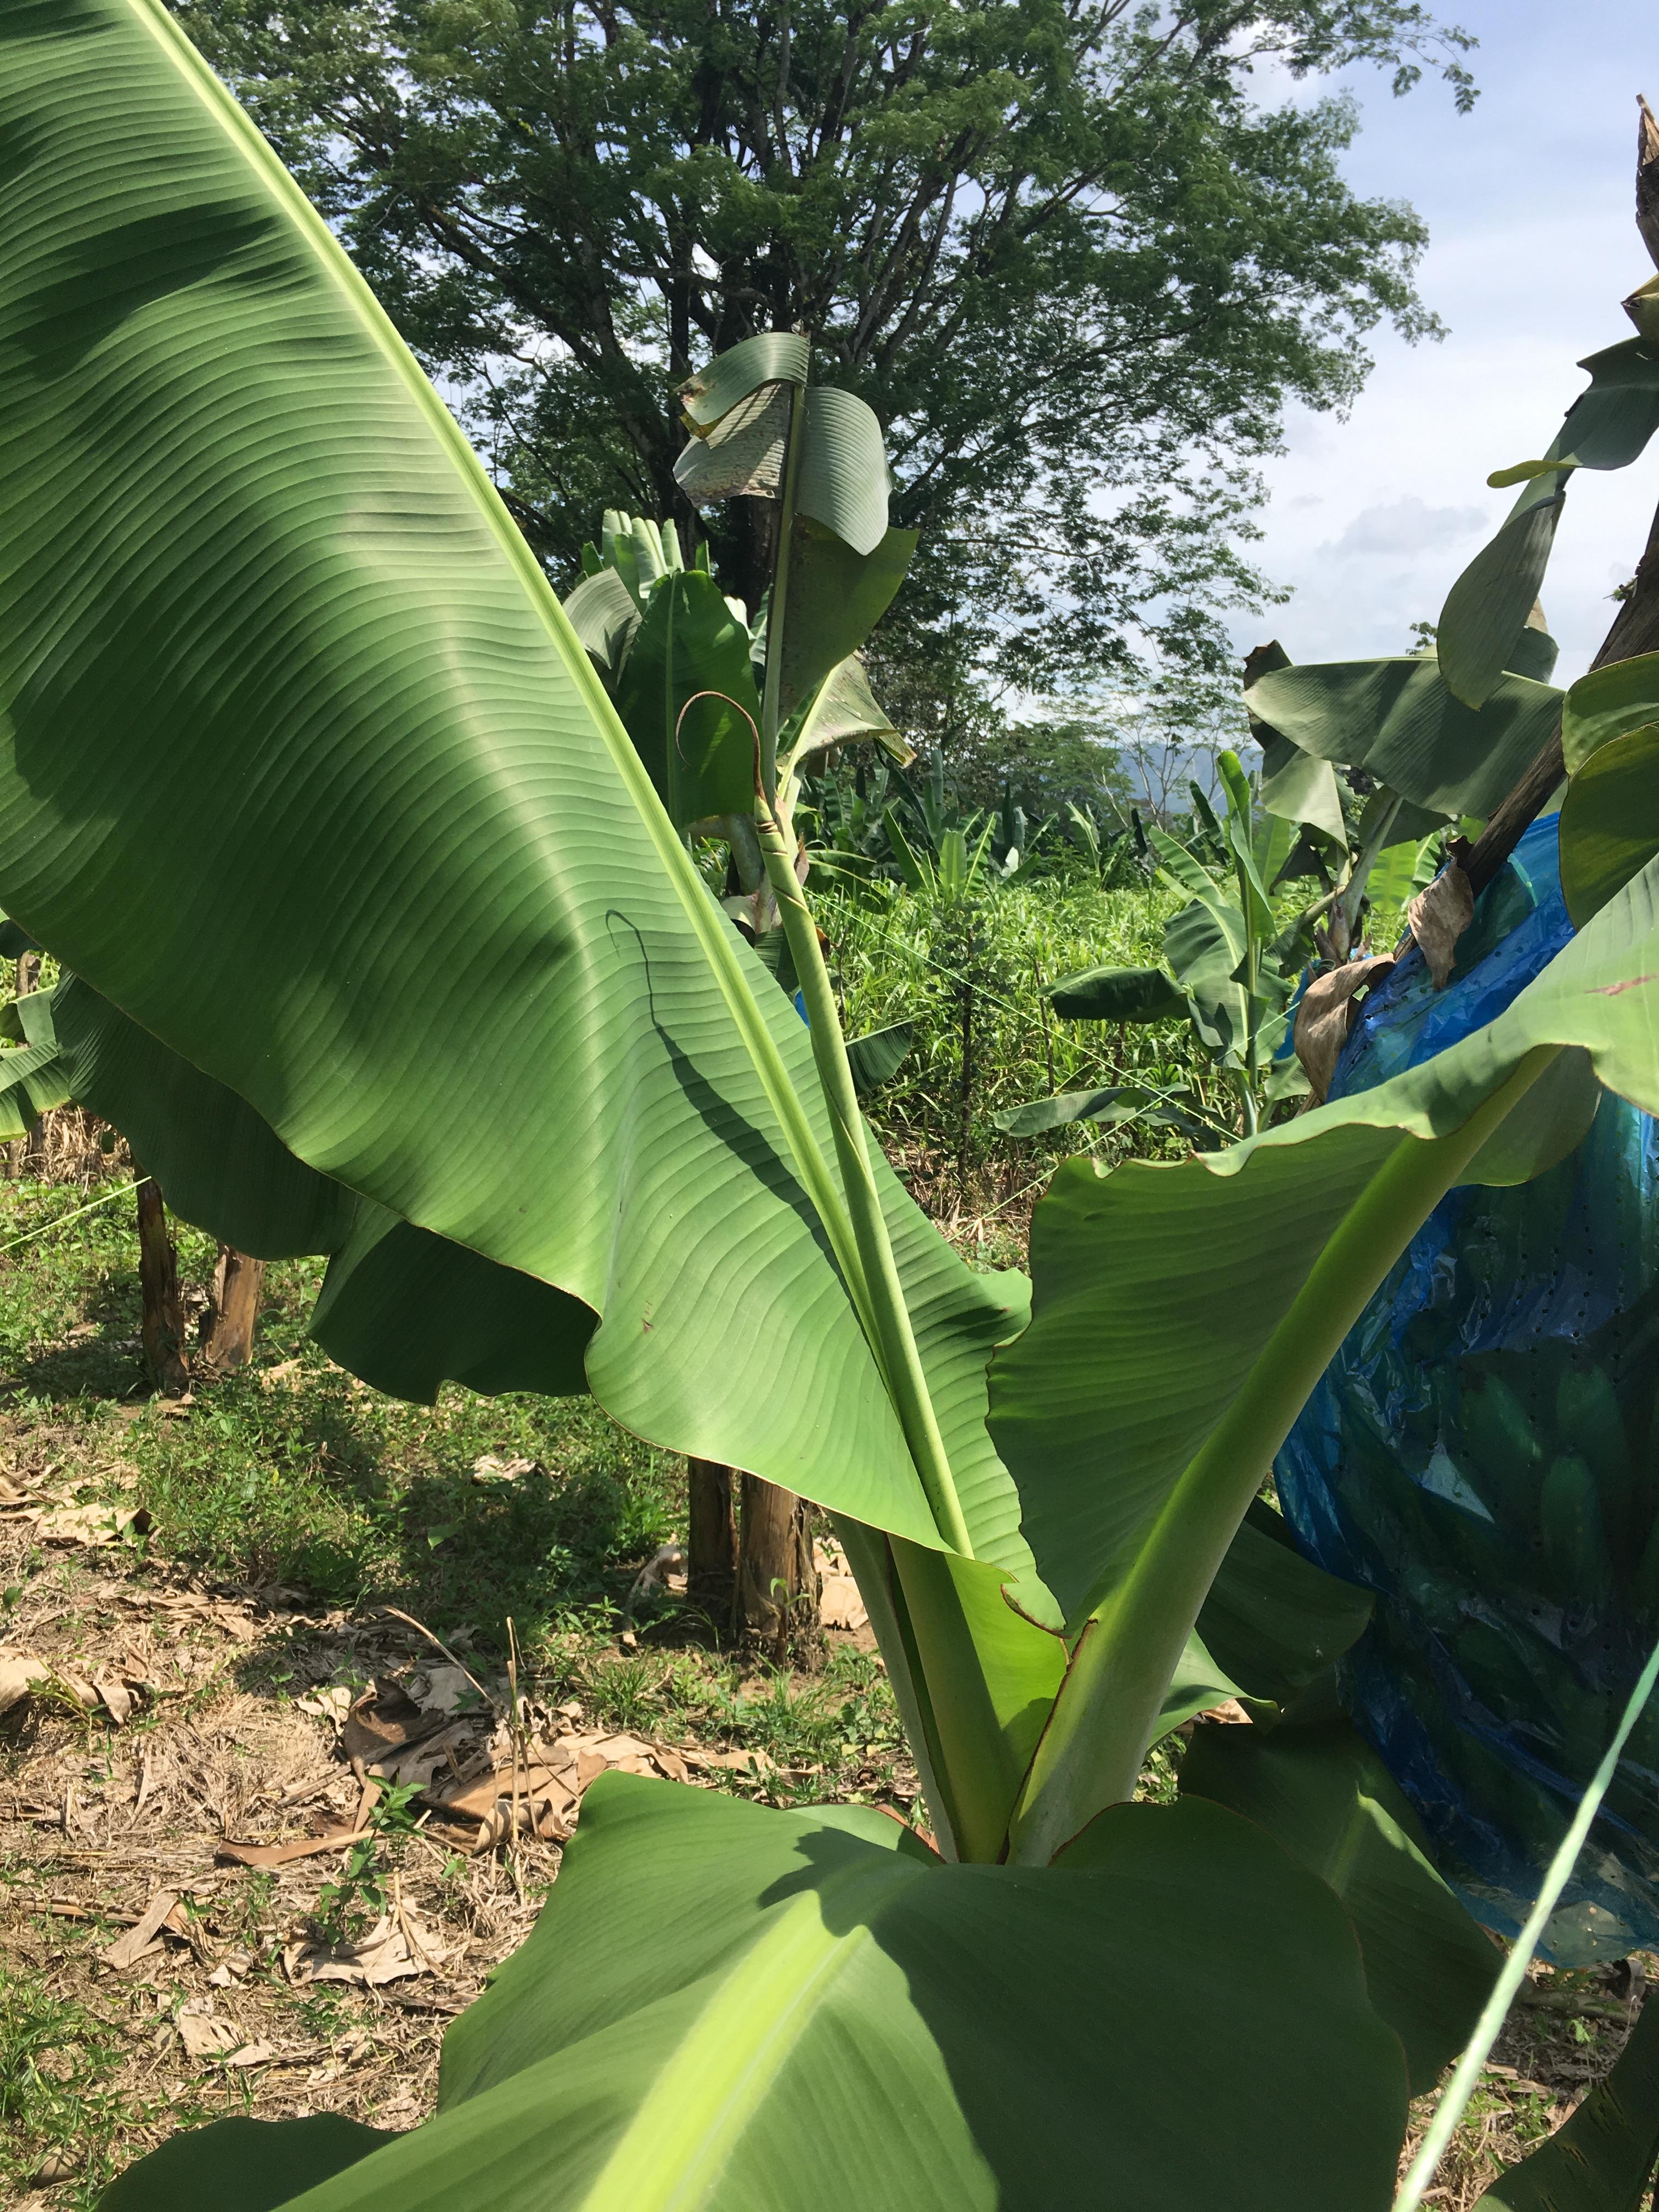candleleafs: (676, 691, 974, 1569)
